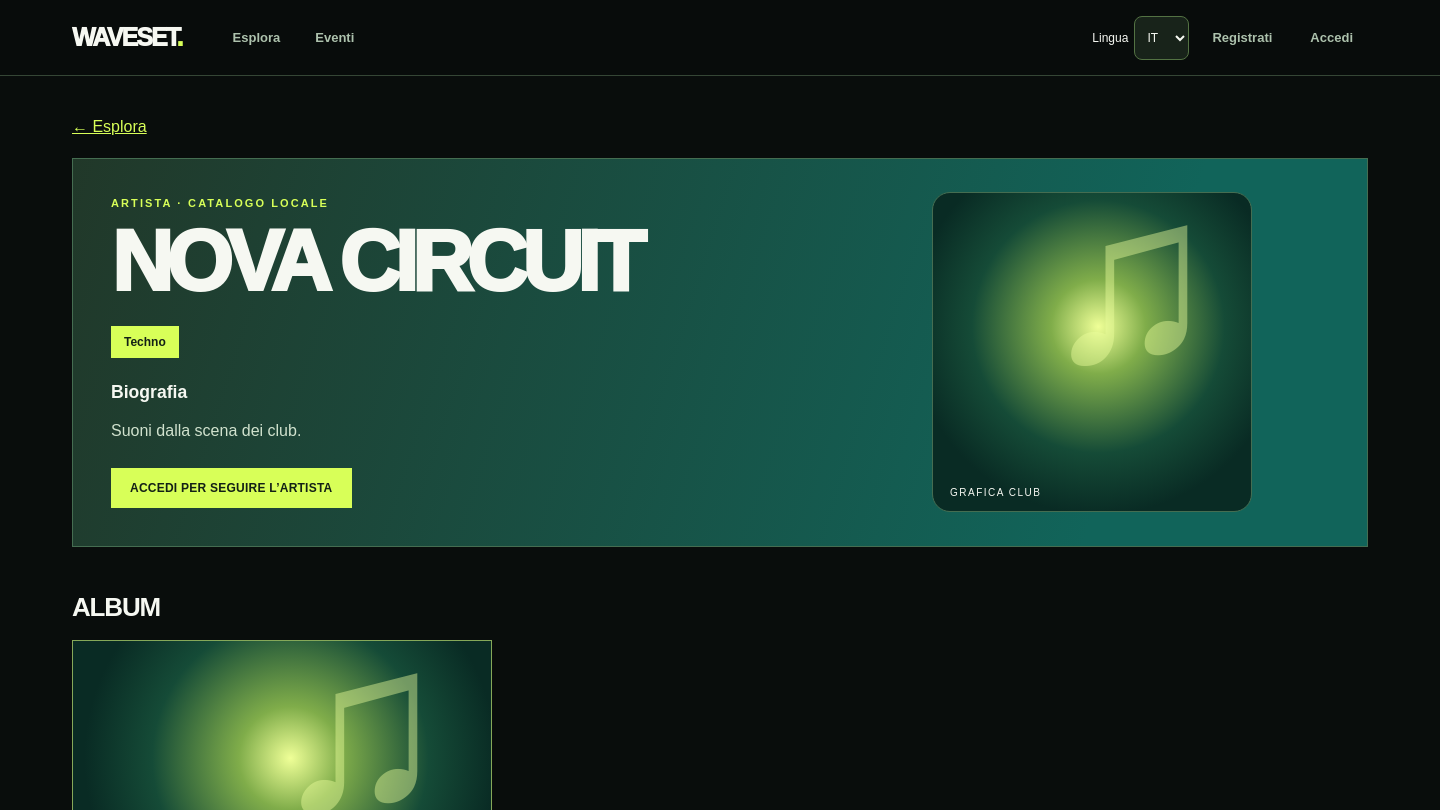
Scenario: ospite → accesso (passaggio registrazione: true) → stesso artista senza follow automatico
The image size is (1440, 810).
Click the link "Accedi per seguire l’artista". click: (231, 488)
box: [111, 468, 352, 508]
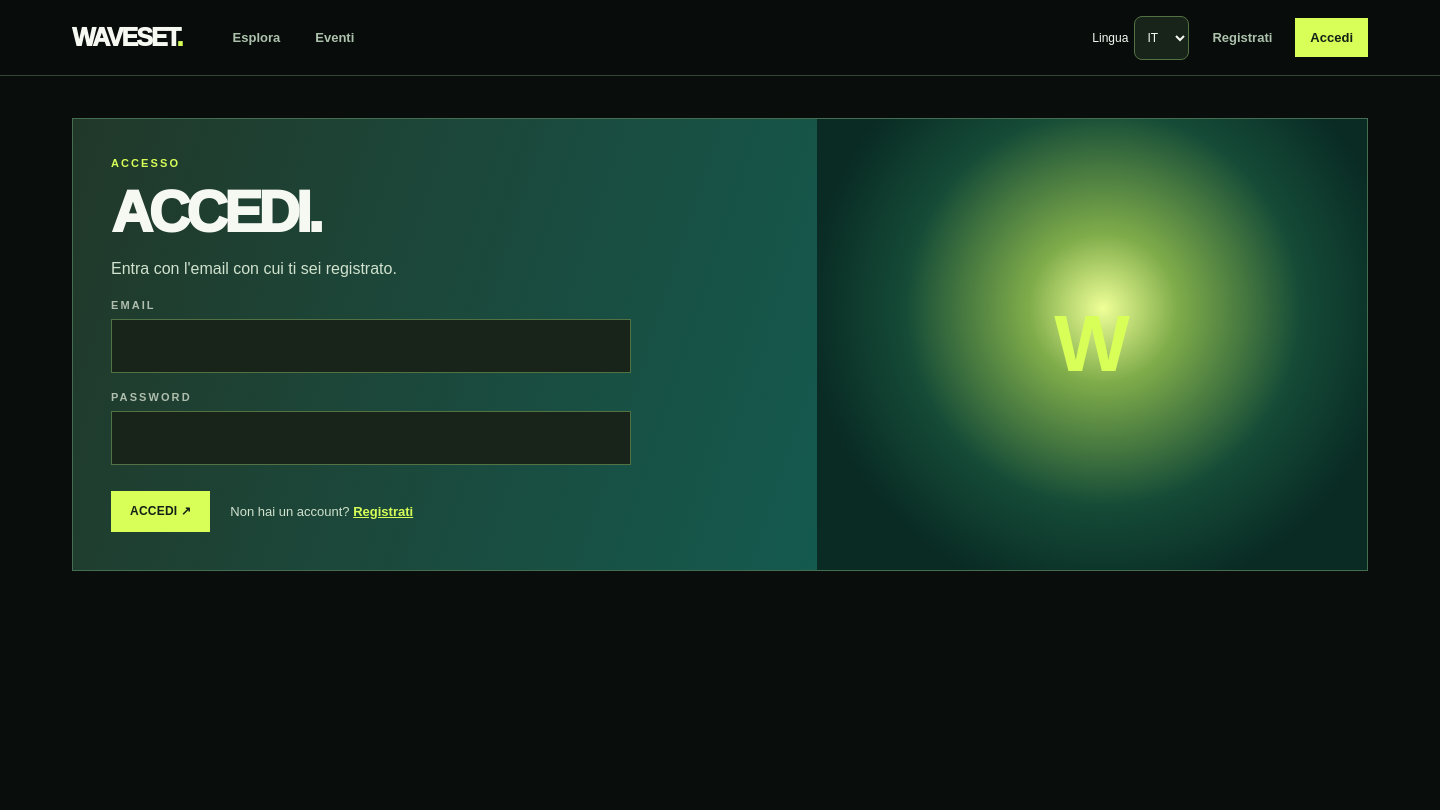
Expected: the heading "Accedi." is shown, [111, 180, 320, 244]
Click the link "Registrati" next to "Non hai un account?". click: (383, 511)
box: [353, 504, 413, 518]
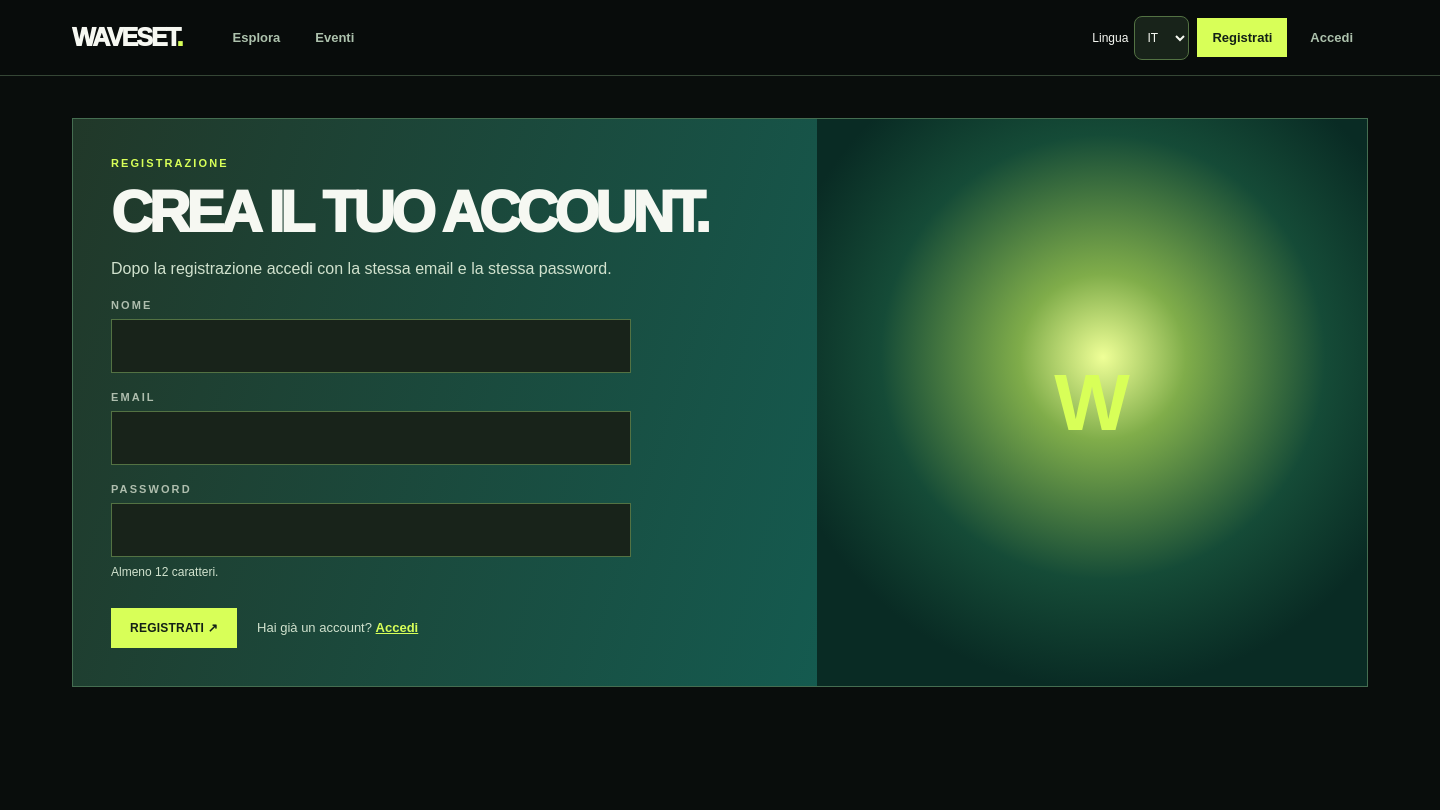
Type "Alice" into the field labelled "Nome". click: (371, 346)
box: [133, 320, 609, 372]
Type "alice@esempio.test" into the field labelled "Email". click: (371, 438)
box: [133, 412, 609, 464]
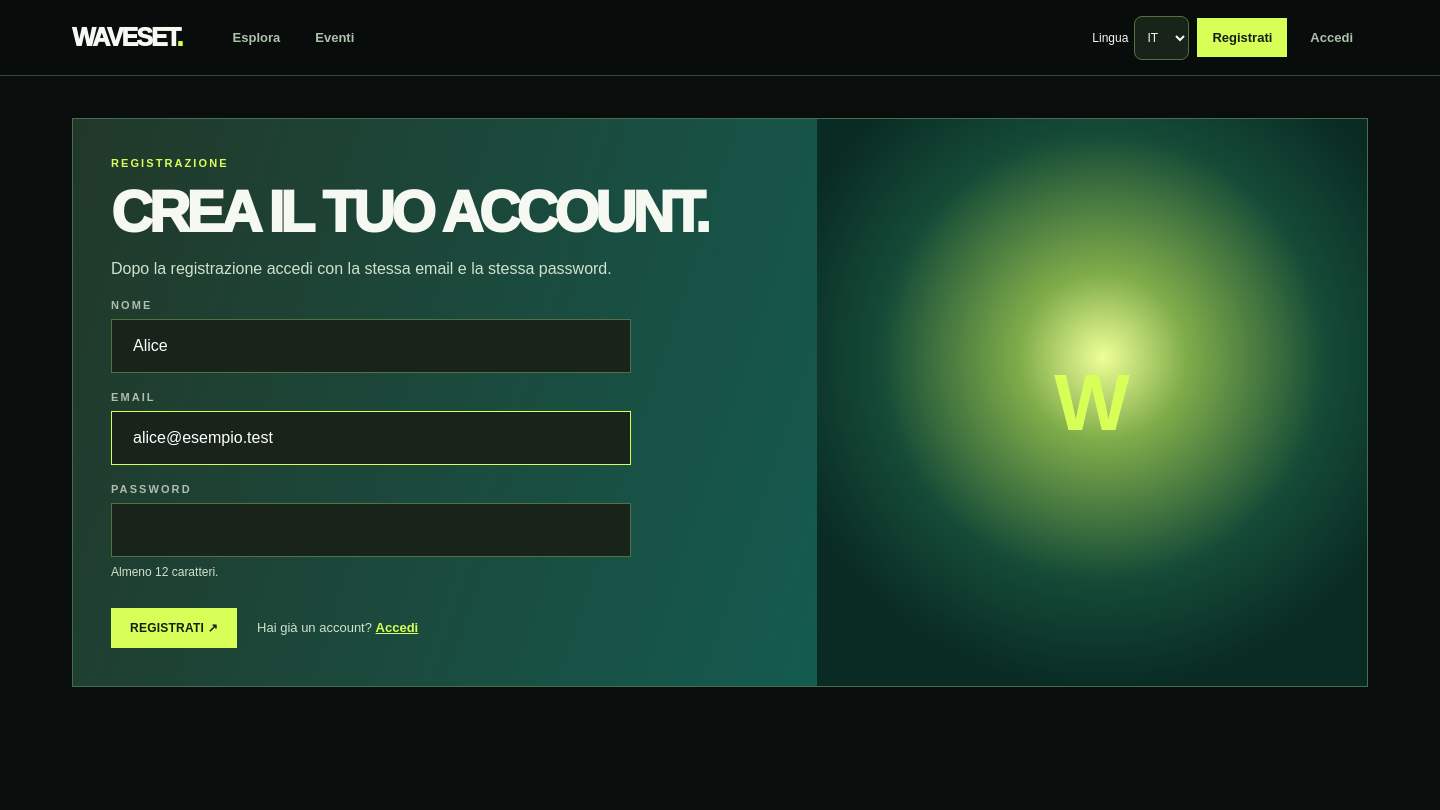
Type "Password-di-test-123" into the password field labelled "Password". click: (371, 530)
box: [133, 504, 609, 556]
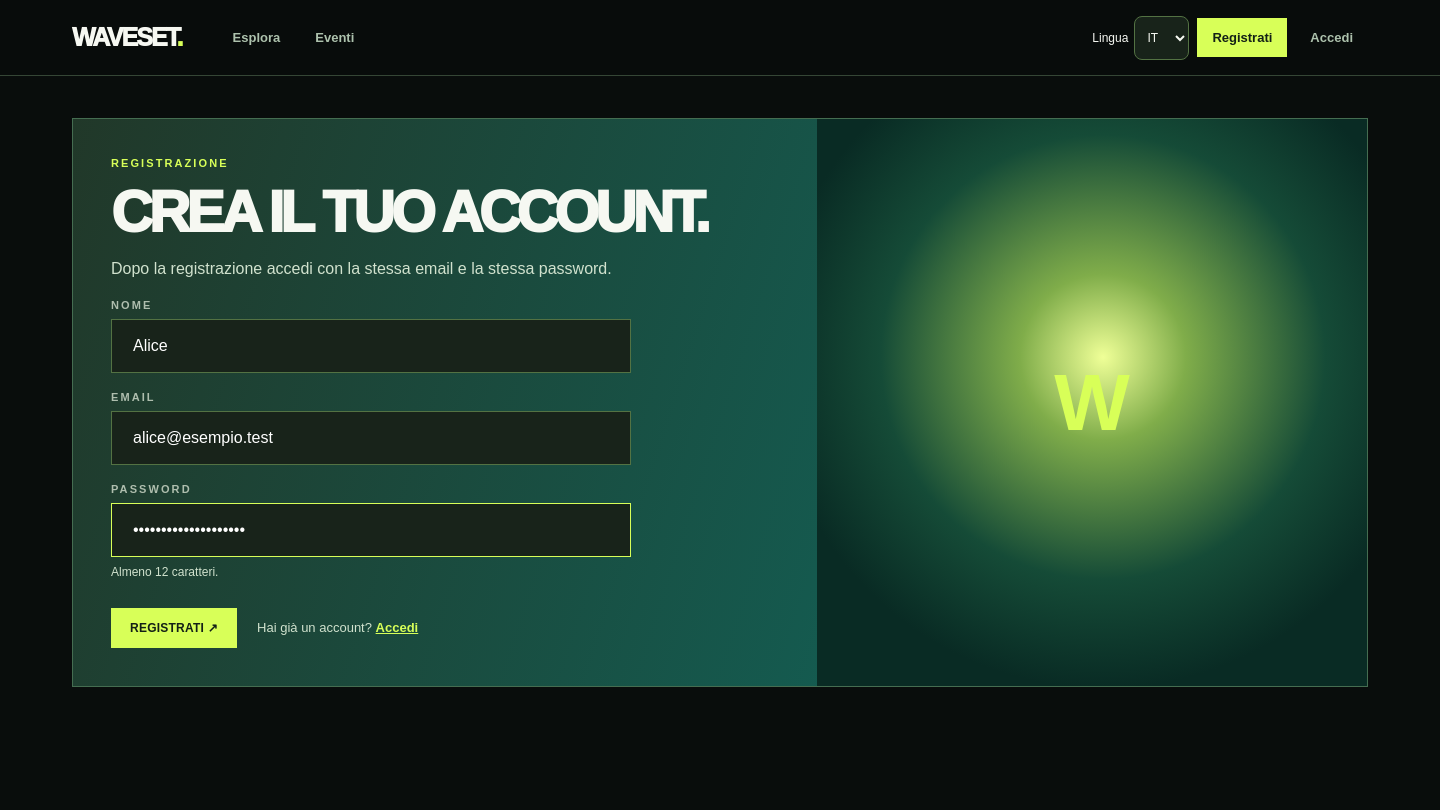
Click the button "Registrati ↗". click: (174, 628)
box: [111, 608, 237, 648]
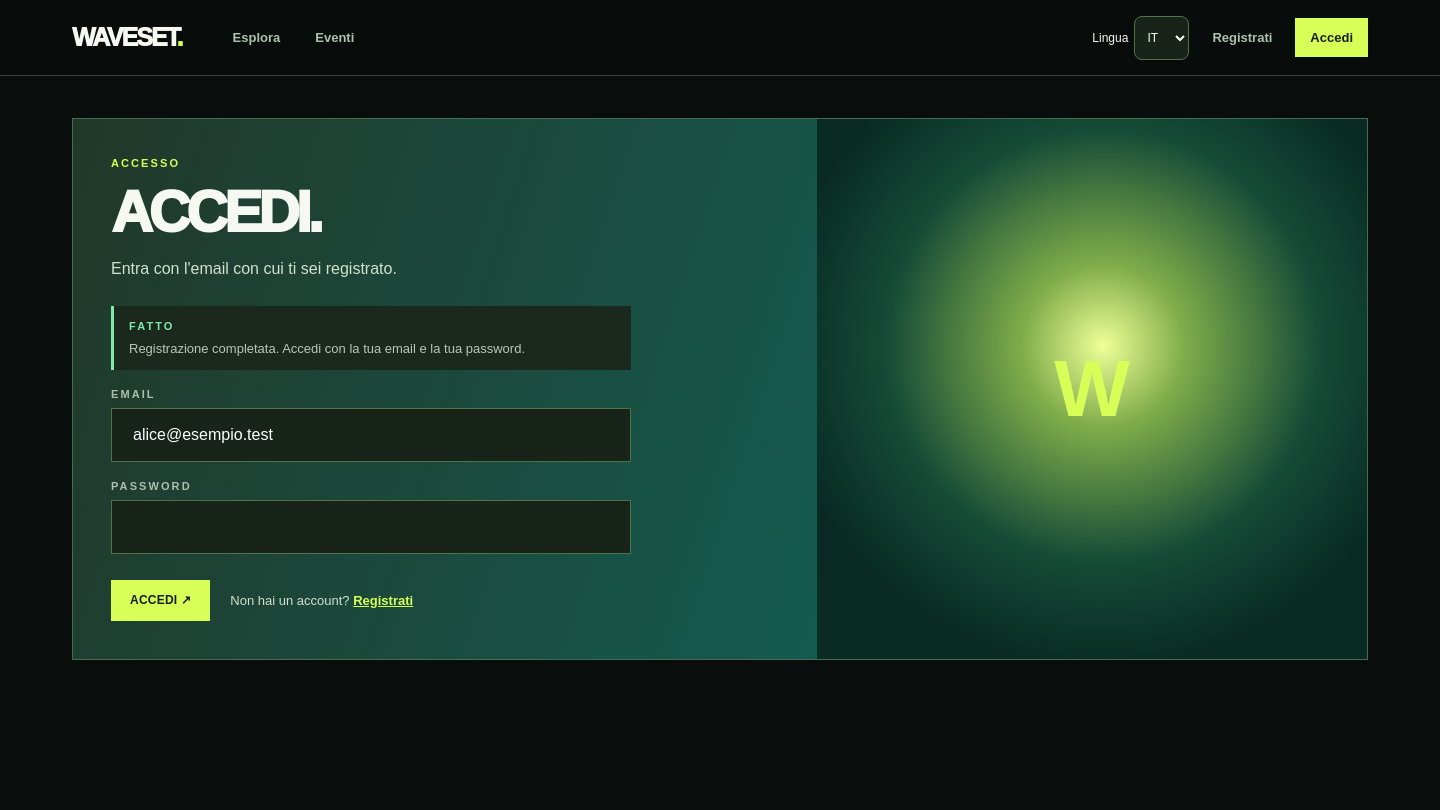
Expected: the field labelled "Email" holds "alice@esempio.test", [133, 409, 609, 461]
Expected: the heading "Accedi." is shown, [111, 180, 320, 244]
Type "Password-di-test-123" into the password field labelled "Password". click: (371, 527)
box: [133, 501, 609, 553]
Click the button "Accedi ↗". click: (161, 601)
box: [111, 580, 210, 621]
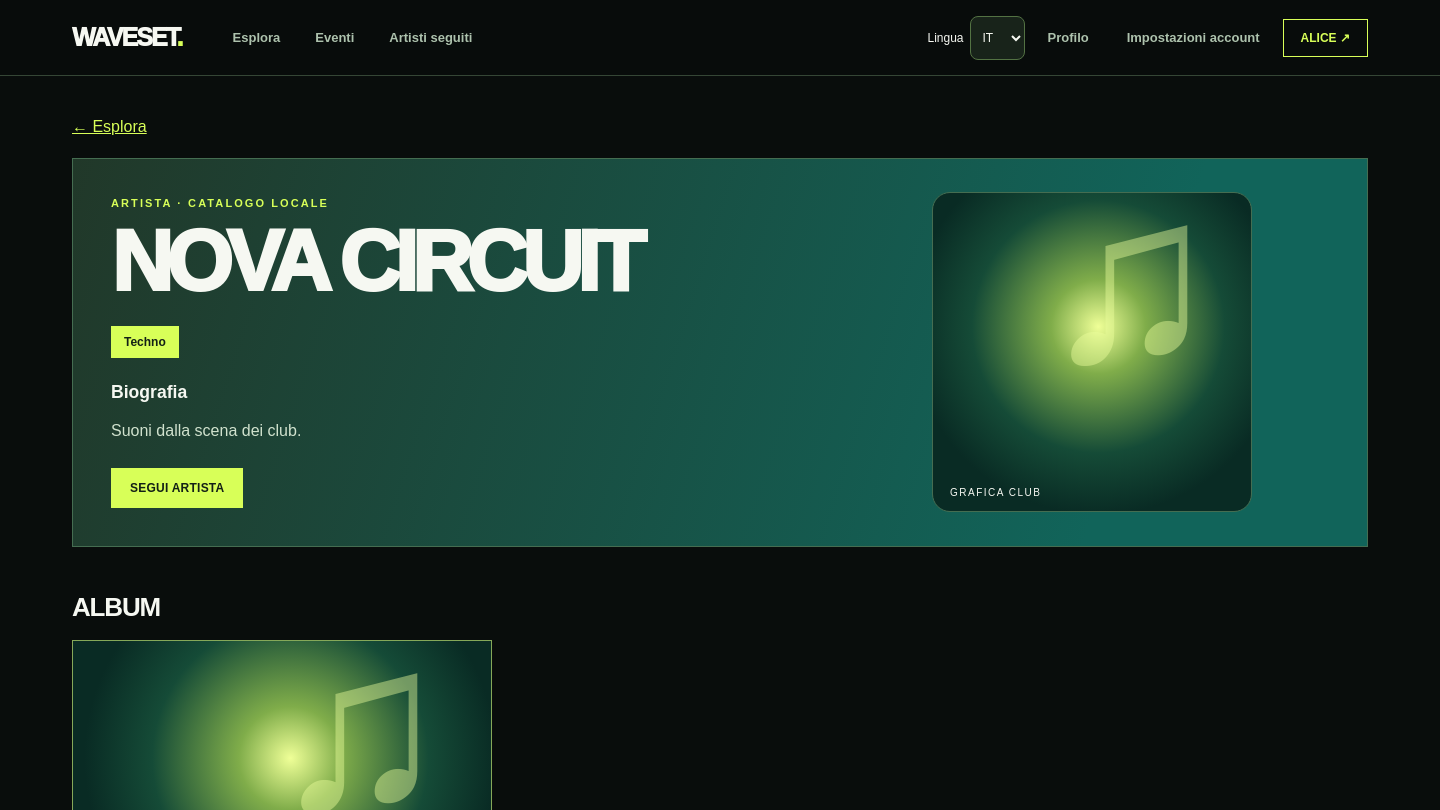
Expected: the button "Segui artista" is shown, [111, 468, 244, 508]
Expected: the heading "Nova Circuit" is shown, [111, 214, 639, 309]
